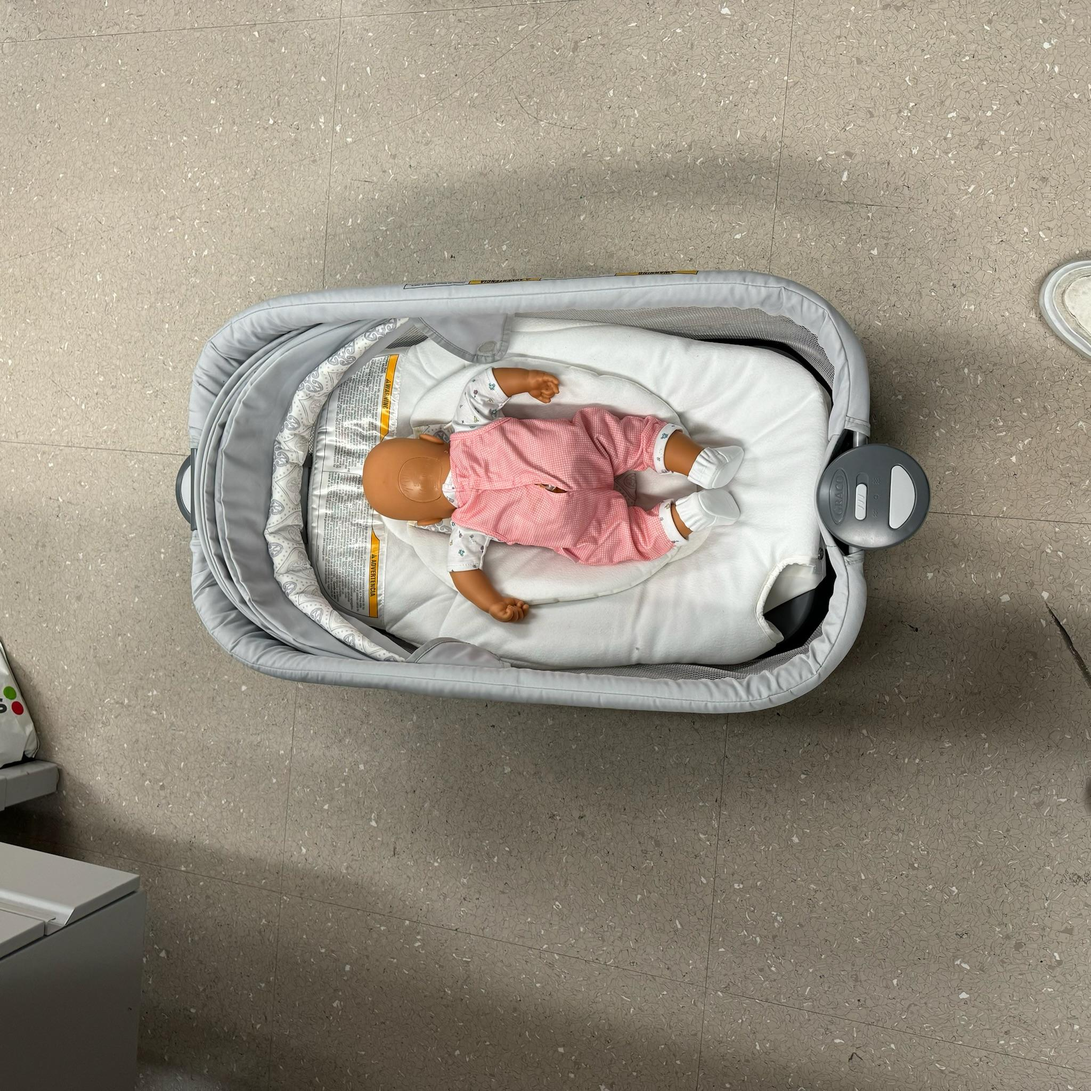baby: (364, 359, 755, 635)
